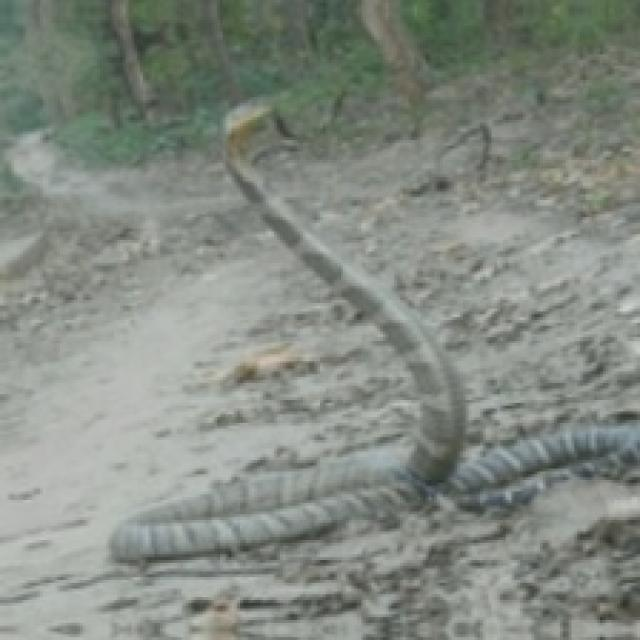king cobra: (111, 103, 637, 560)
